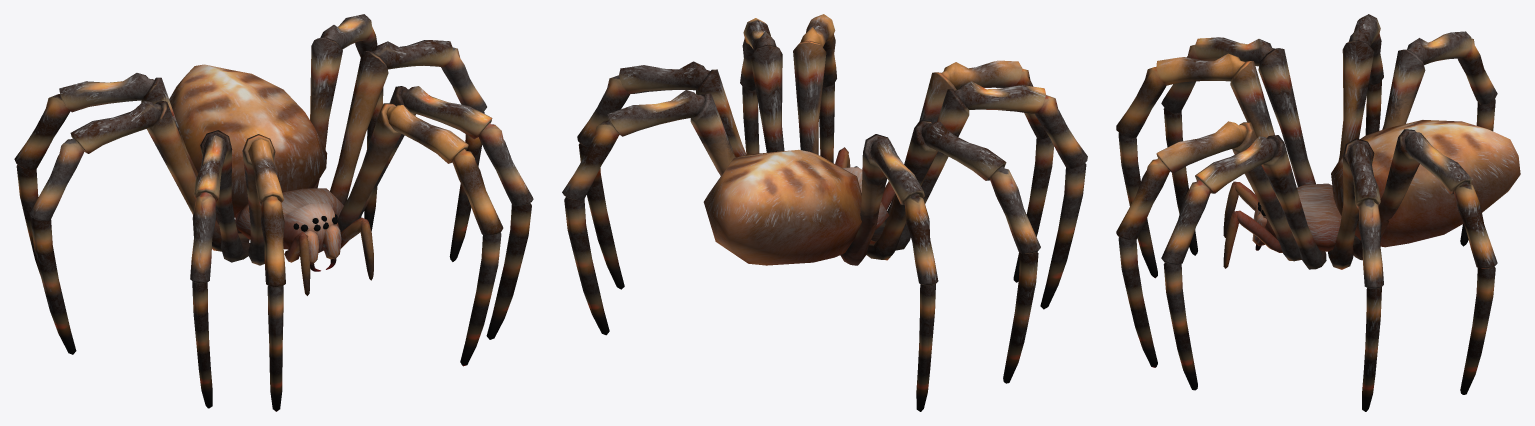
File: Spider_parts_Non_Skinned_Sections_Combined.fbx
3 views of the same model, side by side, from view 1: azimuth 30°, elevation 25°; view 2: azimuth 150°, elevation 25°; view 3: azimuth 270°, elevation 25° (orthographic). The views are drawn at different scales.
Visible parts, largest first — view 1: Spider_Body_Parts21, Spider_Body_Parts9, Spider_Body_Parts44, Spider_Body_Parts1, Spider_Body_Parts8, Spider_Body_Parts45, Spider_Body_Parts4, Spider_Body_Parts38, Spider_Body_Parts41, Spider_Body_Parts13, Spider_Body_Parts39, Spider_Body_Parts35 (+7 smaller); view 2: Spider_Body_Parts21, Spider_Body_Parts44, Spider_Body_Parts16, Spider_Body_Parts13, Spider_Body_Parts41, Spider_Body_Parts45, Spider_Body_Parts47, Spider_Body_Parts39, Spider_Body_Parts50, Spider_Body_Parts1, Spider_Body_Parts9, Spider_Body_Parts5 (+5 smaller); view 3: Spider_Body_Parts21, Spider_Body_Parts5, Spider_Body_Parts39, Spider_Body_Parts1, Spider_Body_Parts16, Spider_Body_Parts35, Spider_Body_Parts4, Spider_Body_Parts8, Spider_Body_Parts13, Spider_Body_Parts47, Spider_Body_Parts12, Spider_Body_Parts9 (+7 smaller).
Boxes of the visible parts, box(x1,y1,x2,y2) form: Spider_Body_Parts21: box(169, 64, 343, 271); Spider_Body_Parts9: box(330, 40, 452, 205); Spider_Body_Parts44: box(70, 100, 249, 251); Spider_Body_Parts1: box(337, 103, 468, 232); Spider_Body_Parts8: box(478, 123, 533, 339); Spider_Body_Parts45: box(29, 138, 84, 354); Spider_Body_Parts4: box(452, 149, 503, 366); Spider_Body_Parts38: box(261, 196, 285, 411); Spider_Body_Parts41: box(190, 192, 215, 408); Spider_Body_Parts13: box(310, 14, 372, 188); Spider_Body_Parts39: box(193, 130, 250, 262); Spider_Body_Parts35: box(242, 134, 283, 265); Spider_Body_Parts21: box(703, 149, 889, 265); Spider_Body_Parts44: box(866, 120, 1006, 260); Spider_Body_Parts16: box(562, 120, 619, 335); Spider_Body_Parts13: box(607, 90, 735, 175); Spider_Body_Parts41: box(1035, 95, 1087, 309); Spider_Body_Parts45: box(990, 166, 1040, 383); Spider_Body_Parts47: box(840, 134, 924, 265); Spider_Body_Parts39: box(871, 81, 1045, 250); Spider_Body_Parts50: box(904, 193, 938, 411); Spider_Body_Parts1: box(793, 14, 835, 154); Spider_Body_Parts9: box(619, 61, 746, 157); Spider_Body_Parts5: box(743, 18, 784, 152); Spider_Body_Parts21: box(1252, 120, 1520, 251); Spider_Body_Parts5: box(1195, 135, 1326, 269); Spider_Body_Parts39: box(1195, 37, 1315, 186); Spider_Body_Parts1: box(1156, 121, 1301, 261); Spider_Body_Parts16: box(1454, 181, 1497, 394); Spider_Body_Parts35: box(1156, 53, 1274, 137); Spider_Body_Parts4: box(1116, 158, 1169, 367); Spider_Body_Parts8: box(1161, 179, 1210, 390); Spider_Body_Parts13: box(1353, 129, 1471, 260); Spider_Body_Parts47: box(1382, 31, 1471, 129); Spider_Body_Parts12: box(1358, 199, 1383, 411); Spider_Body_Parts9: box(1328, 138, 1380, 269).
Size of the model in its own units: 137 by 69.52 by 107.
